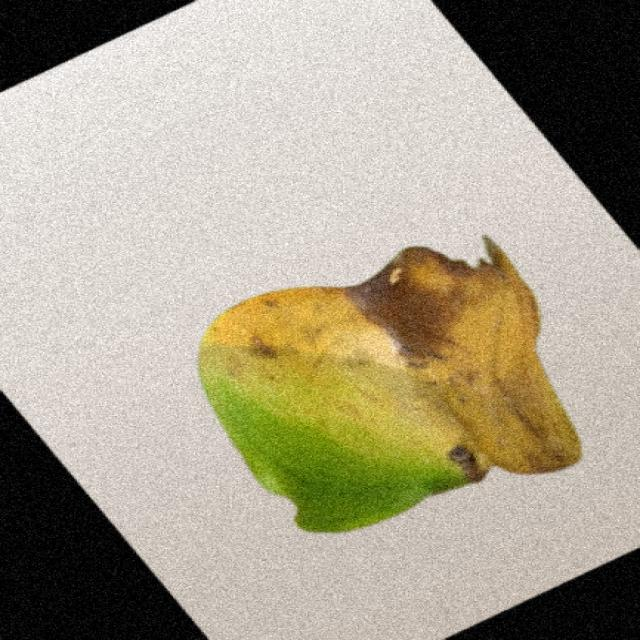daun berpenyakit kuning: (198, 236, 580, 532)
